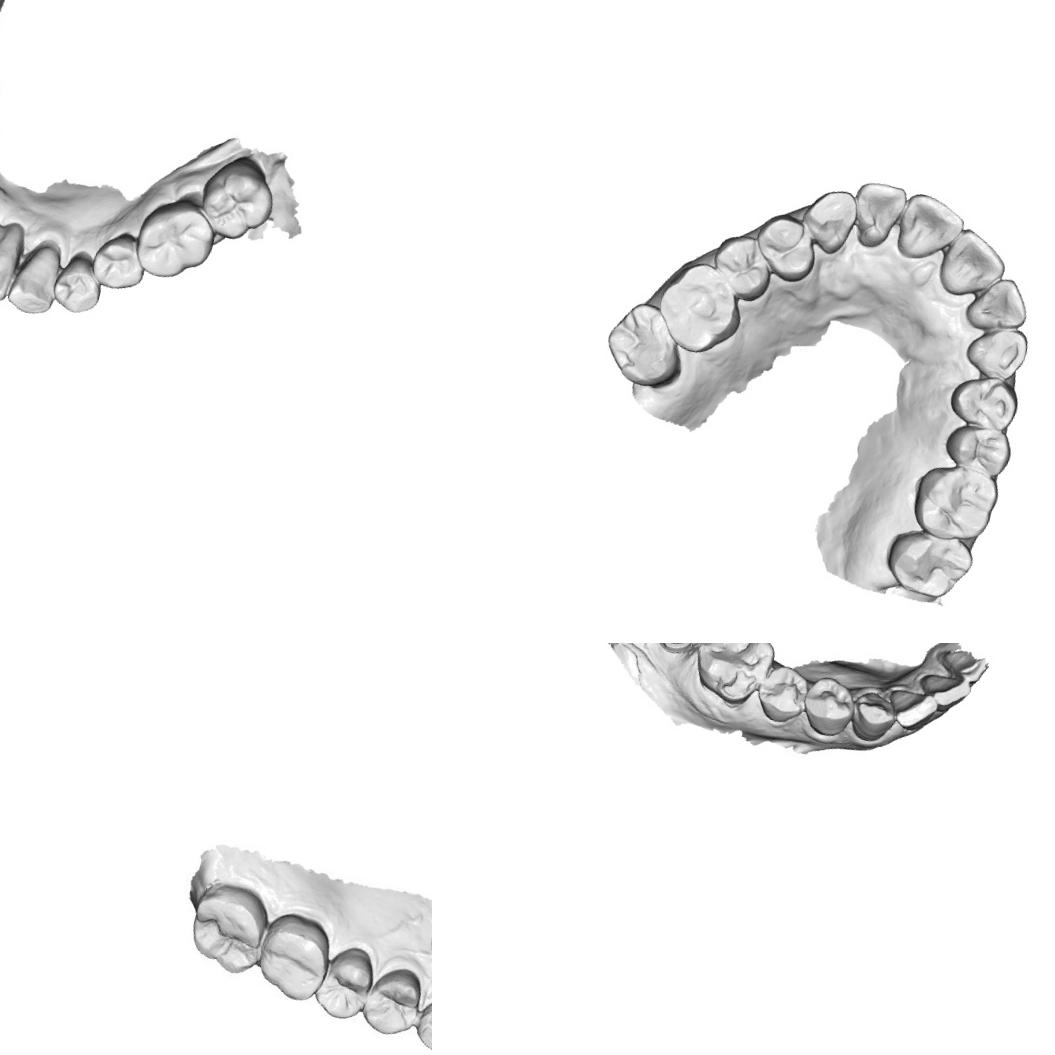canine: (957, 315, 1035, 388), (796, 181, 866, 262), (3, 234, 68, 321), (846, 687, 902, 747), (411, 990, 432, 1055)
implant: (651, 643, 699, 654)
incisor: (889, 186, 971, 272), (934, 221, 1014, 306), (961, 267, 1035, 341), (846, 174, 910, 254), (912, 666, 974, 714), (883, 686, 941, 736), (0, 240, 22, 305)
molar: (648, 255, 752, 361), (181, 878, 277, 980), (598, 294, 694, 394), (190, 150, 284, 250), (904, 455, 1005, 548), (127, 192, 222, 288), (250, 908, 337, 1006), (880, 522, 978, 606), (684, 643, 780, 714)
premolar: (748, 209, 826, 289), (311, 935, 378, 1028), (943, 365, 1025, 436), (708, 226, 780, 306), (358, 962, 426, 1043), (938, 416, 1018, 482), (46, 244, 110, 319), (87, 224, 152, 296), (797, 672, 861, 742), (750, 660, 813, 728)
